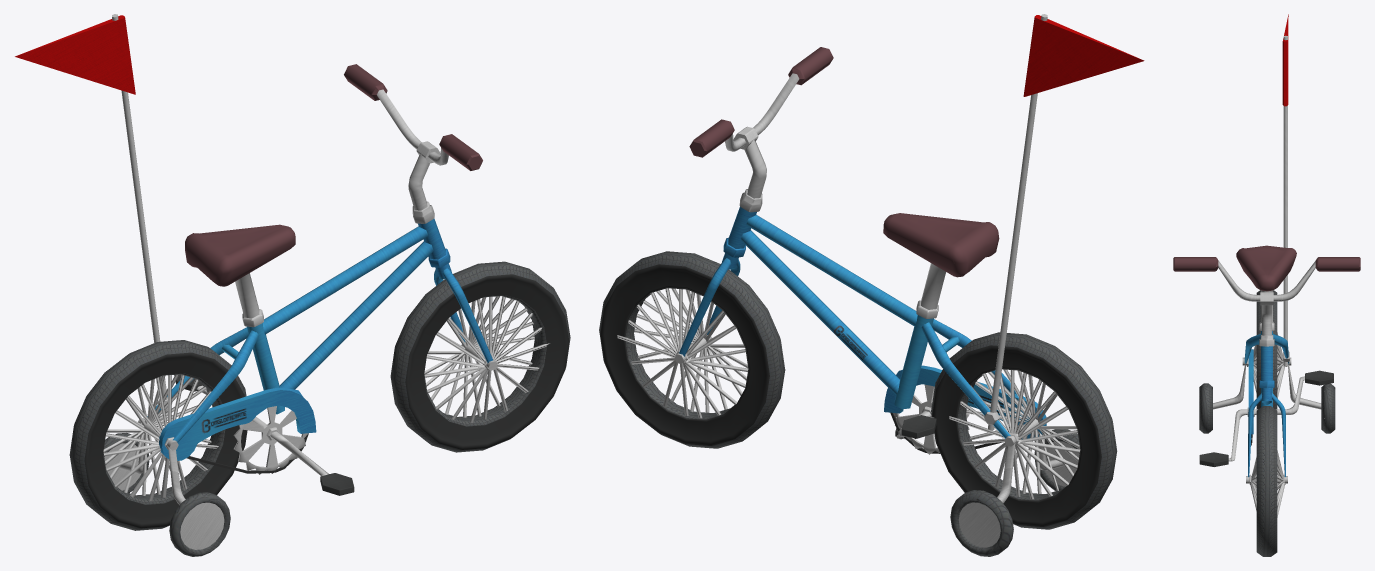
File: Bikee.fbx
The picture shows the model from 3 angles, left to right: view 1: azimuth 30°, elevation 25°; view 2: azimuth 150°, elevation 25°; view 3: azimuth 270°, elevation 25°; orthographic projection. The views are drawn at different scales.
Parts seen in each view (by area): view 1: pCube5; view 2: pCube5; view 3: pCube5.
Part boxes in pixels (box(x1,y1,x2,y2)): pCube5: box(15, 14, 570, 556); pCube5: box(599, 14, 1144, 556); pCube5: box(1173, 14, 1360, 556).
Bounding box in the file's own units: 12.98 × 11.74 × 5.18.
